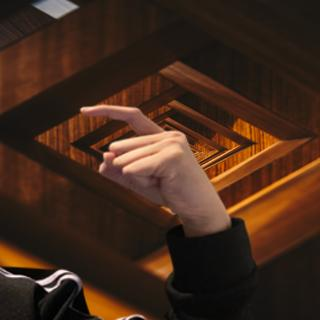WHY: (73, 97, 223, 228)
